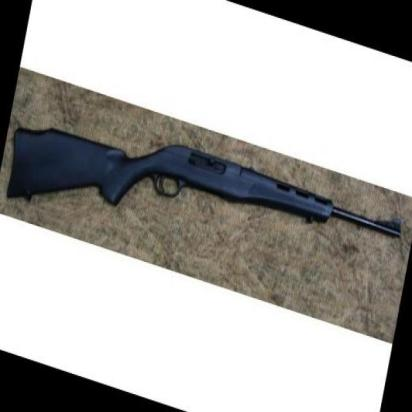Gun: (6, 88, 403, 318)
